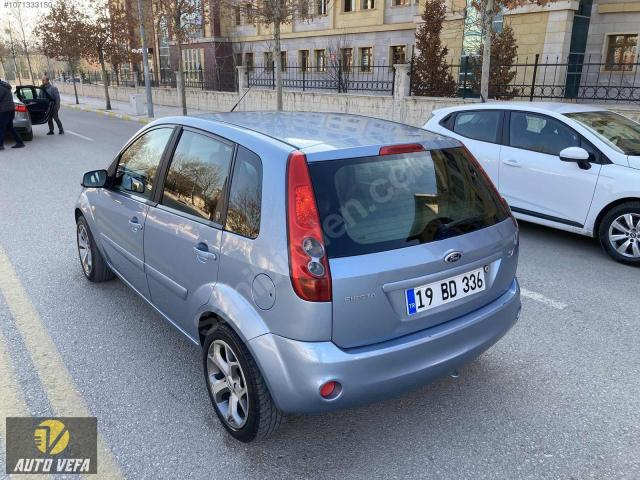plaka: (406, 267, 488, 315)
